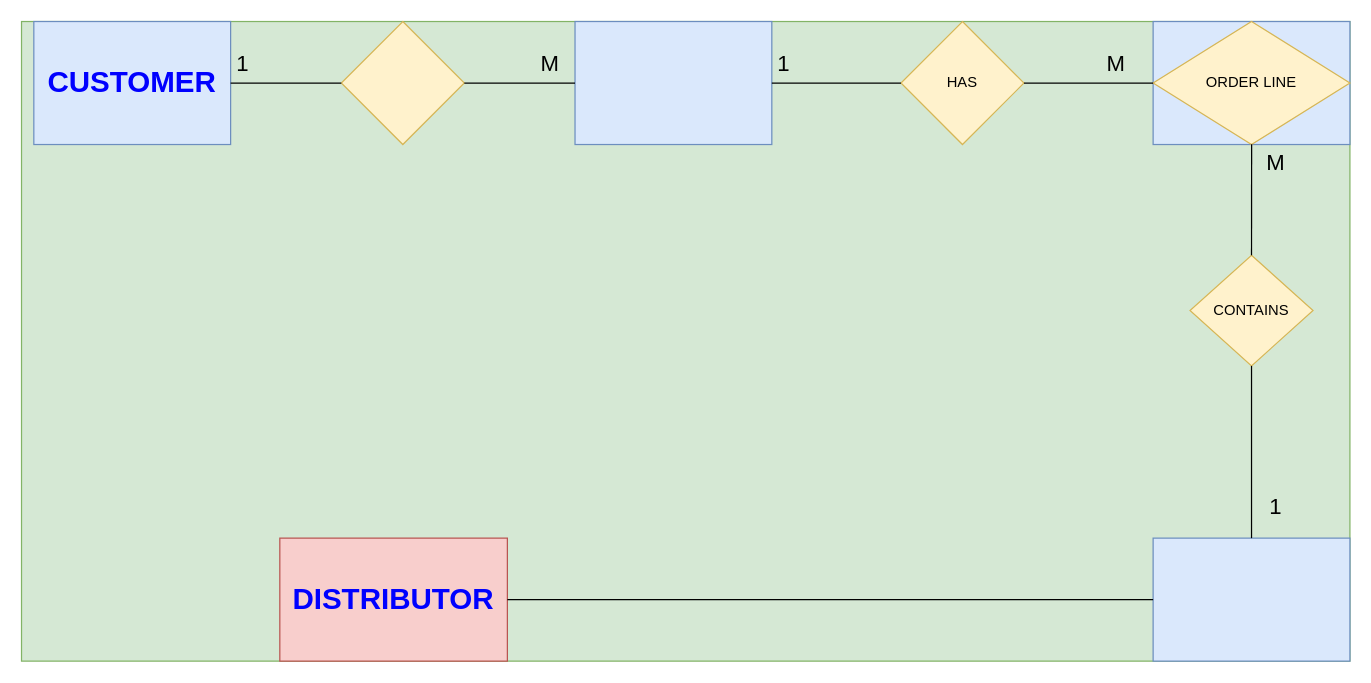
This 1371x683 diagram has some shape labels left out. The box of each missing label's shape, as (x1, y1, x2, y2) in pixels:
ORDER: (574, 20, 772, 145)
PLACES: (340, 20, 464, 145)
PRODUCT: (1152, 537, 1350, 661)
